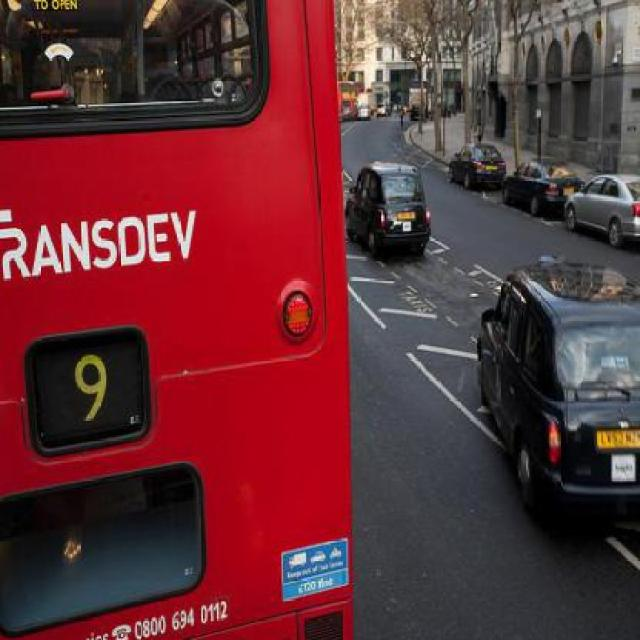Person: (399, 105, 403, 122)
